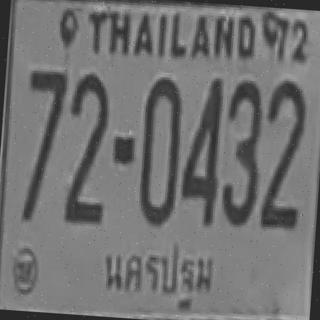N00: (140, 74, 183, 176)
N02: (62, 114, 108, 222), (259, 119, 303, 227)
N03: (219, 92, 262, 224)
N04: (178, 74, 222, 220)
N07: (24, 67, 66, 154)
P28: (96, 238, 222, 316)
